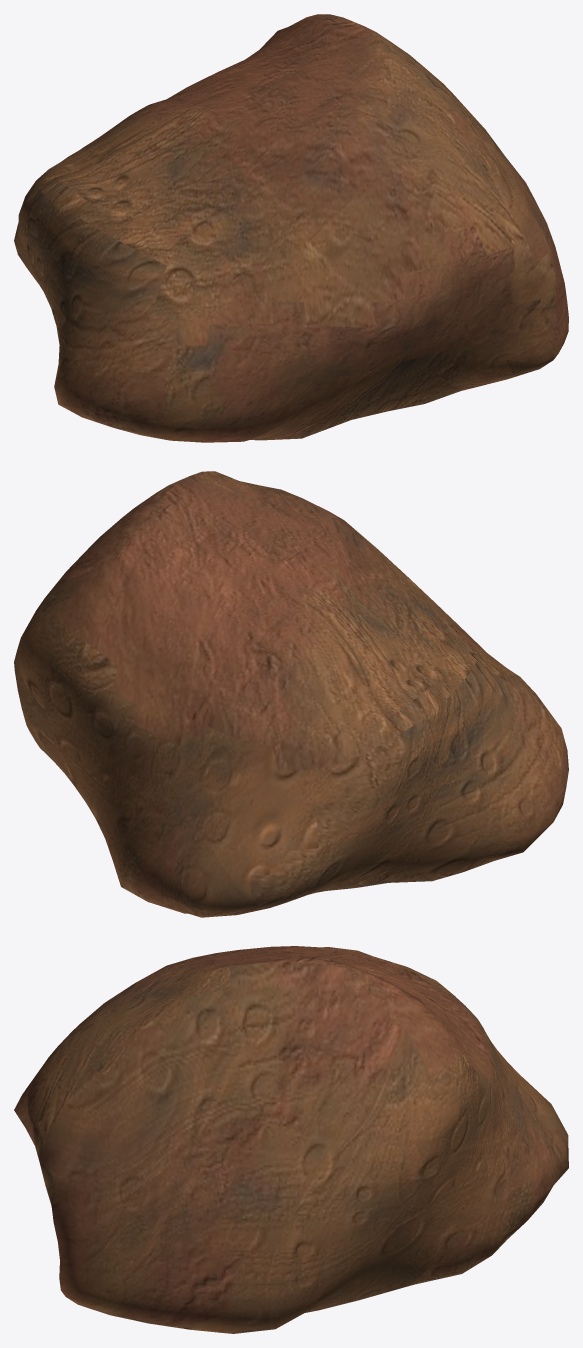
File: MarsRock2.obj
3 views of the same model, one above another, from view 1: azimuth 30°, elevation 25°; view 2: azimuth 150°, elevation 25°; view 3: azimuth 270°, elevation 25° (orthographic). The views are drawn at different scales.
Parts seen in each view (by area): view 1: Rocks11; view 2: Rocks11; view 3: Rocks11.
Boxes of the visible parts, left/top/right/bottom form: Rocks11: left=14, top=14, right=568, bottom=442; Rocks11: left=14, top=471, right=568, bottom=917; Rocks11: left=14, top=946, right=568, bottom=1333.
Bounding box in the file's own units: 1.19 × 0.8299 × 1.14.
Materials: 1 (1 with a texture image).
